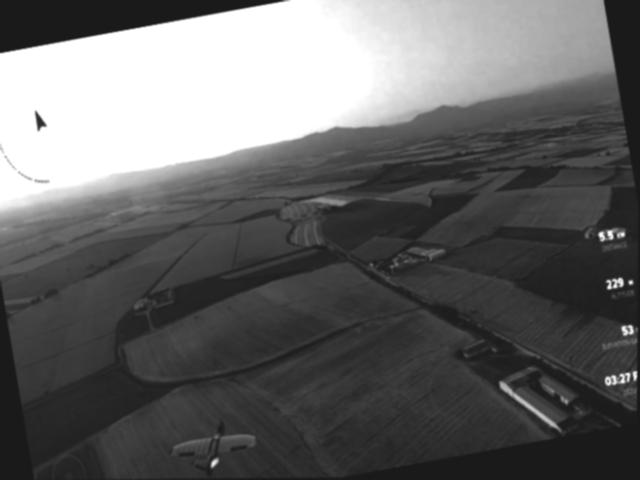hedef: (159, 405, 272, 479)
